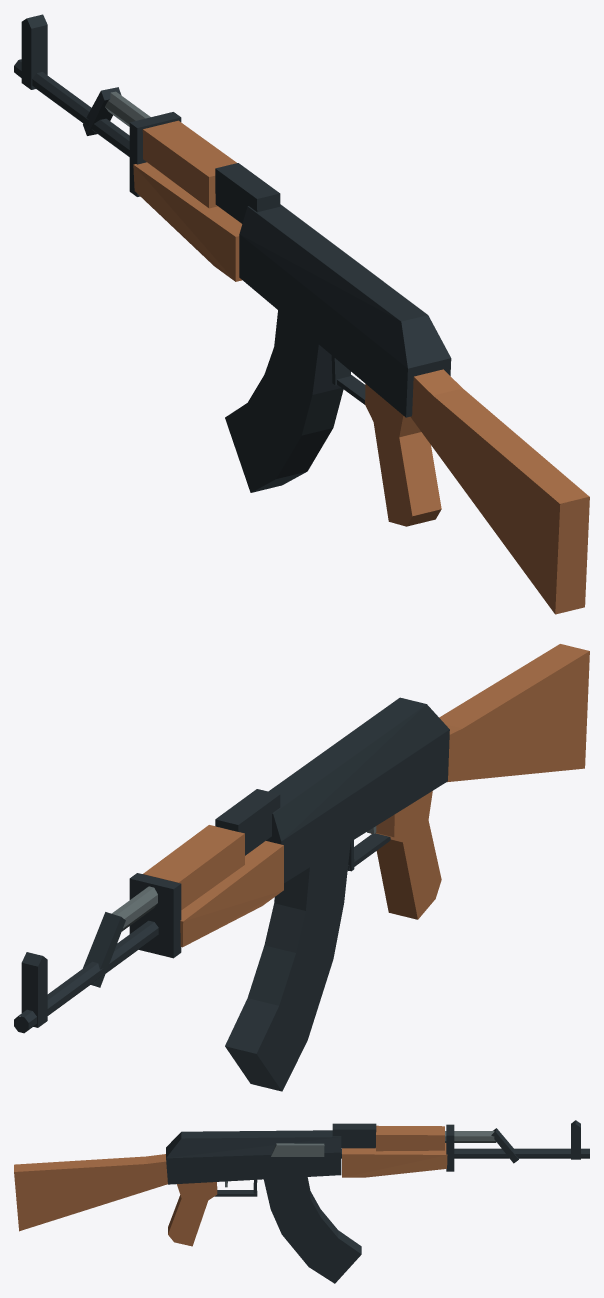
3 renders of one model, top to bottom at view 1: azimuth 30°, elevation 25°; view 2: azimuth 150°, elevation 25°; view 3: azimuth 270°, elevation 25°, orthographic. The views are drawn at different scales.
Visible parts, largest first — view 1: 立方体, Stock_0, Magazine_11, Pistol_grip_6, Lower_handguard_17, Upper_handguard_18, Rear_sight_28, Barrel_15, Front_sight_26, Handguard_front_band_20, Gas_tube_16; view 2: 立方体, Magazine_11, Stock_0, Pistol_grip_6, Lower_handguard_17, Upper_handguard_18, Handguard_front_band_20, Barrel_15, Rear_sight_28, Front_sight_26, Gas_block_25, Gas_tube_16 (+1 smaller); view 3: 立方体, Stock_0, Magazine_11, Lower_handguard_17, Pistol_grip_6, Upper_handguard_18, Barrel_15, Rear_sight_28, Trigger_10.001, Gas_tube_16, Handguard_front_band_20, Front_sight_26 (+2 smaller).
Boxes of the visible parts, x1=… form: 立方体: x1=239, y1=204, x2=451, y2=417; Stock_0: x1=410, y1=369, x2=589, y2=614; Magazine_11: x1=225, y1=310, x2=343, y2=492; Pistol_grip_6: x1=365, y1=384, x2=441, y2=526; Lower_handguard_17: x1=133, y1=162, x2=242, y2=281; Upper_handguard_18: x1=142, y1=120, x2=236, y2=208; Rear_sight_28: x1=215, y1=163, x2=280, y2=223; Barrel_15: x1=14, y1=59, x2=129, y2=156; Front_sight_26: x1=21, y1=14, x2=47, y2=89; Handguard_front_band_20: x1=129, y1=112, x2=181, y2=196; Gas_tube_16: x1=105, y1=91, x2=150, y2=126; 立方体: x1=266, y1=697, x2=449, y2=882; Magazine_11: x1=225, y1=842, x2=350, y2=1091; Stock_0: x1=439, y1=644, x2=589, y2=782; Pistol_grip_6: x1=371, y1=791, x2=441, y2=919; Lower_handguard_17: x1=180, y1=841, x2=283, y2=947; Upper_handguard_18: x1=143, y1=825, x2=244, y2=909; Handguard_front_band_20: x1=129, y1=873, x2=181, y2=958; Barrel_15: x1=14, y1=920, x2=158, y2=1033; Rear_sight_28: x1=215, y1=789, x2=280, y2=855; Front_sight_26: x1=21, y1=952, x2=47, y2=1027; Gas_block_25: x1=83, y1=912, x2=125, y2=987; Gas_tube_16: x1=112, y1=886, x2=157, y2=931; 立方体: x1=166, y1=1130, x2=341, y2=1184; Stock_0: x1=14, y1=1154, x2=167, y2=1231; Magazine_11: x1=263, y1=1177, x2=361, y2=1283; Lower_handguard_17: x1=342, y1=1143, x2=447, y2=1177; Pistol_grip_6: x1=168, y1=1182, x2=217, y2=1246; Upper_handguard_18: x1=376, y1=1125, x2=444, y2=1151; Barrel_15: x1=341, y1=1148, x2=589, y2=1158; Rear_sight_28: x1=332, y1=1123, x2=376, y2=1148; Trigger_10.001: x1=271, y1=1143, x2=324, y2=1156; Gas_tube_16: x1=445, y1=1131, x2=496, y2=1142; Handguard_front_band_20: x1=446, y1=1124, x2=454, y2=1171; Front_sight_26: x1=571, y1=1120, x2=580, y2=1159.
Bounding box in the file's own units: 0.0532 × 0.3148 × 1.04.
